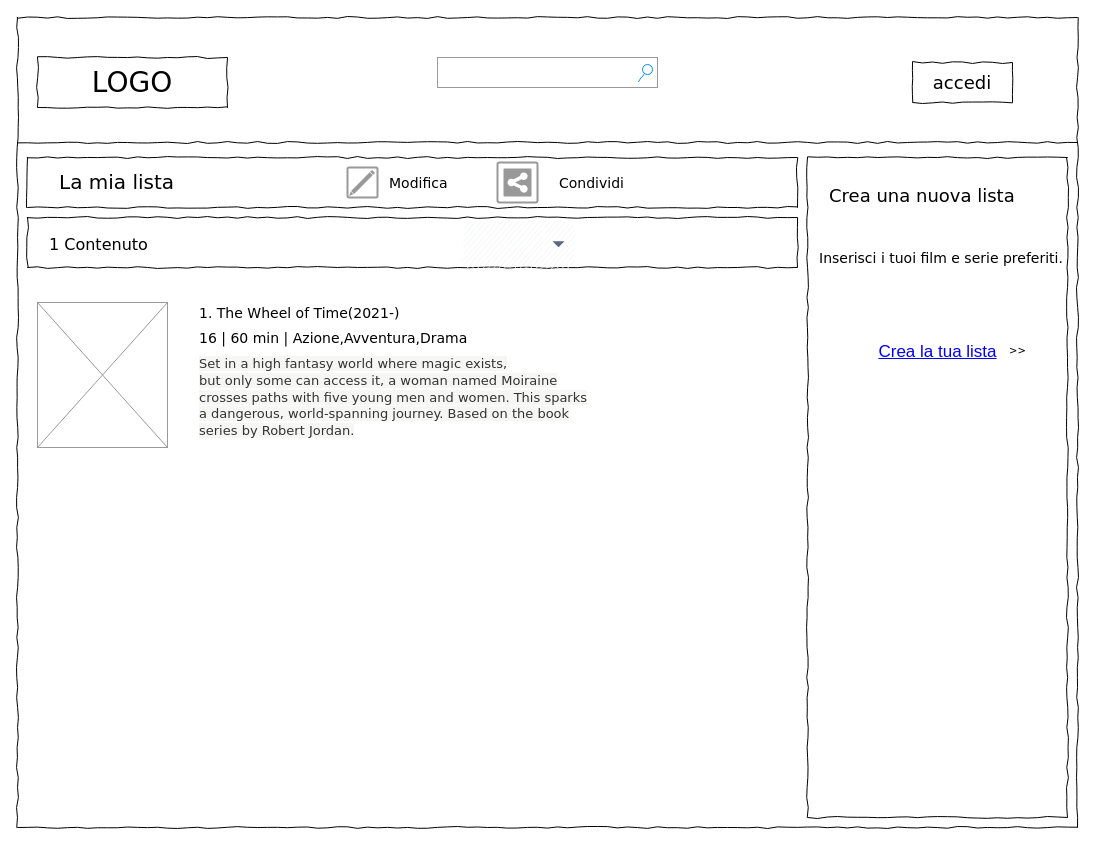
Some shapes in this 1095 by 845 pixel diagram are drawn without their labels. The shapes that lost their labels are listed below. From the top down, each one's centre as x and y in pixels, then its label:
At pixel 547 72: "Search".
At pixel 517 243: "Filtra per".
